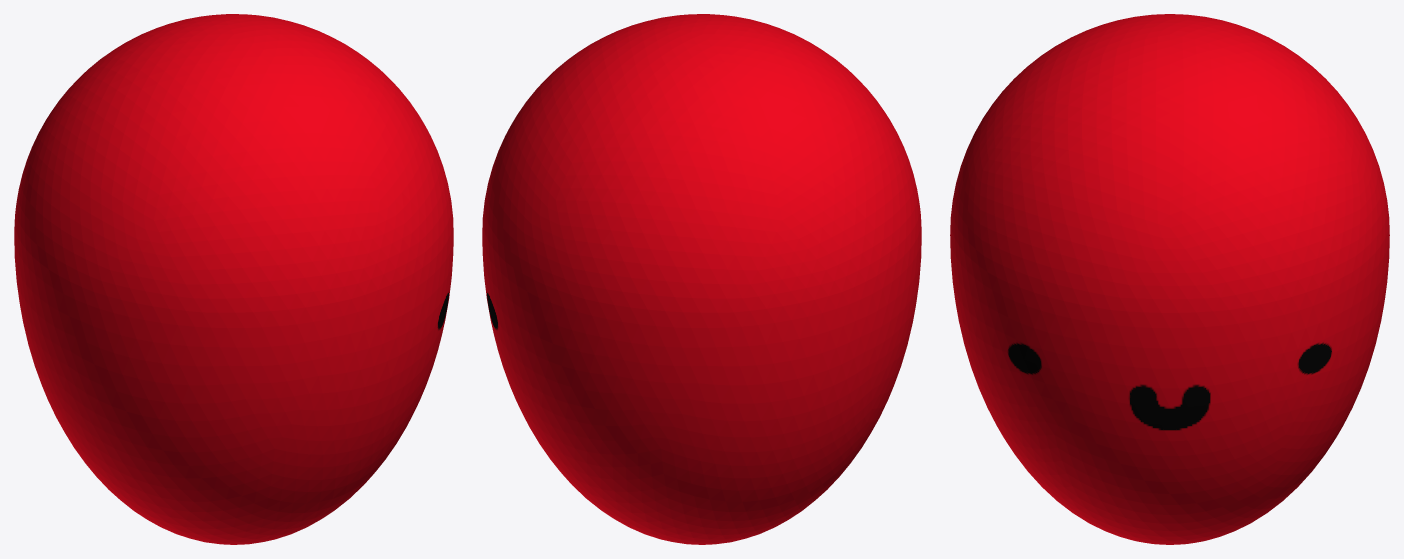
File: balloonguy.glb
The picture shows the model from 3 angles, left to right: view 1: azimuth 30°, elevation 25°; view 2: azimuth 150°, elevation 25°; view 3: azimuth 270°, elevation 25°; orthographic projection.
Parts seen in each view (by area): view 1: Icosphere; view 2: Icosphere; view 3: Icosphere.
Boxes of the visible parts, x1,y1,x2,y2 form: Icosphere: [14, 14, 453, 544]; Icosphere: [482, 14, 921, 544]; Icosphere: [950, 14, 1389, 544].
Size of the model in its own units: 2 by 2.49 by 2.
1 material, 1 textured.
